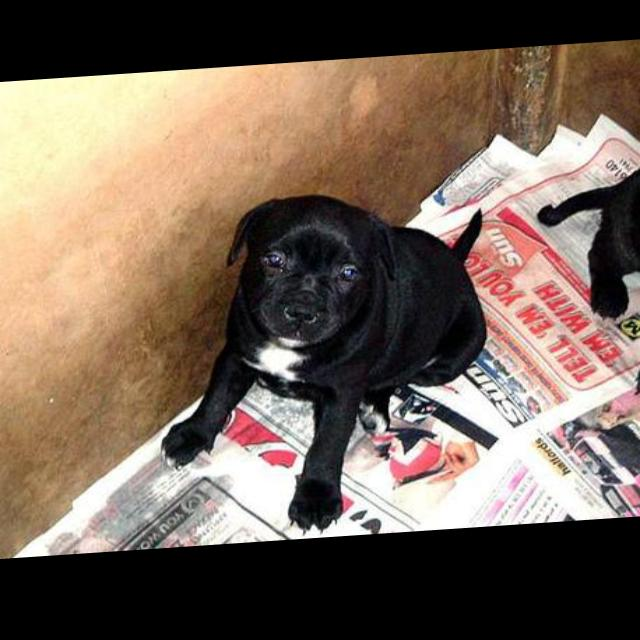staffford: (161, 188, 487, 544), (537, 163, 640, 435)
